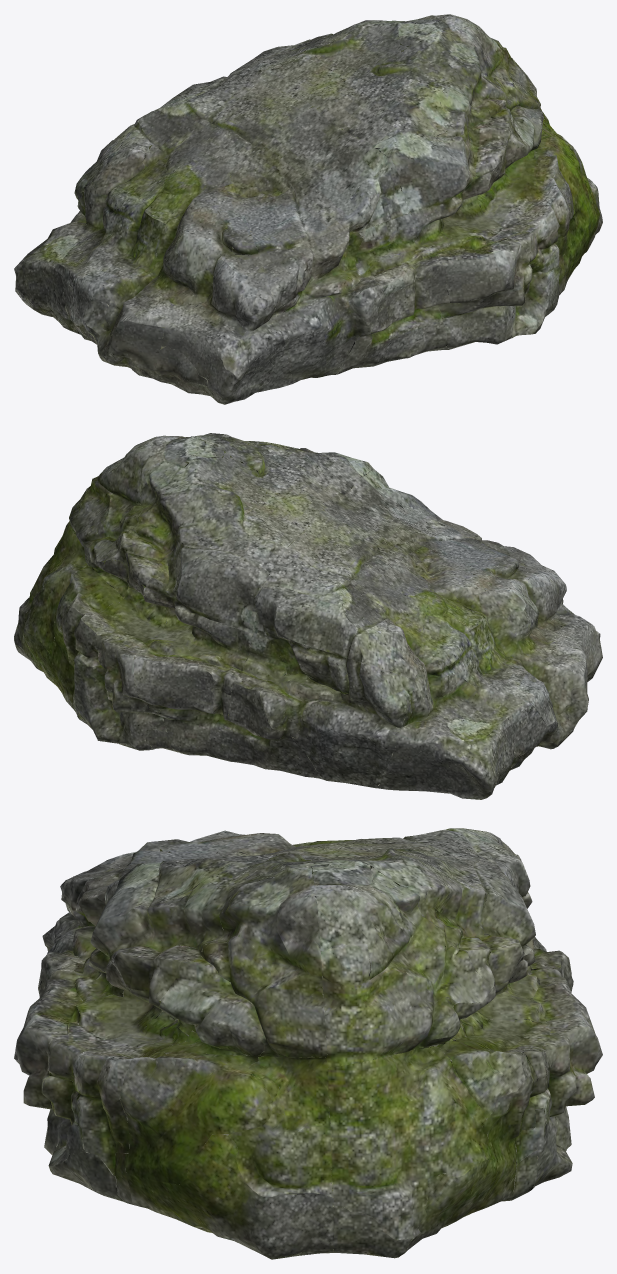
The model's file is rock_outcrop.glb.
3 renders of one model, top to bottom at view 1: azimuth 30°, elevation 25°; view 2: azimuth 150°, elevation 25°; view 3: azimuth 270°, elevation 25°, orthographic. The views are drawn at different scales.
Parts seen in each view (by area): view 1: rock_outcrop; view 2: rock_outcrop; view 3: rock_outcrop.
Boxes of the visible parts, left/top/right/bottom form: rock_outcrop: left=14, top=14, right=602, bottom=404; rock_outcrop: left=14, top=433, right=602, bottom=799; rock_outcrop: left=14, top=828, right=602, bottom=1259.
Size of the model in its own units: 1.87 by 0.8496 by 1.43.
Materials: 1 (1 with a texture image).
